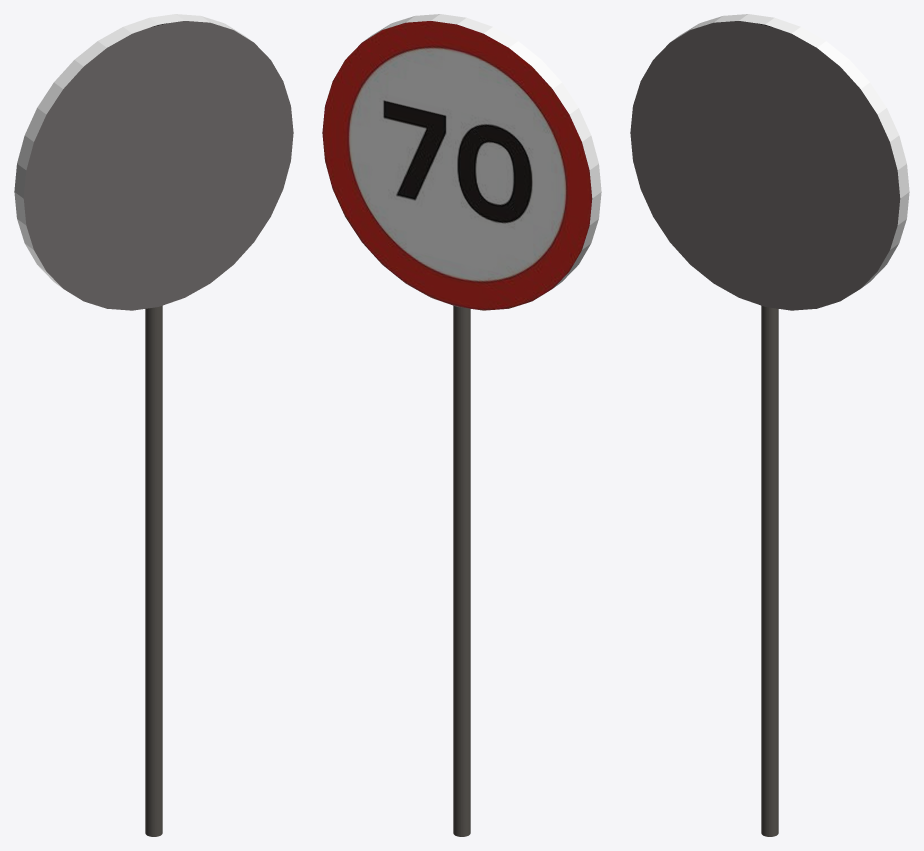
File: Sinal70.fbx
3 views of the same model, side by side, from view 1: azimuth 30°, elevation 25°; view 2: azimuth 150°, elevation 25°; view 3: azimuth 330°, elevation 25° (orthographic).
Visible parts, largest first — view 1: Cylinder.001, Cylinder; view 2: Cylinder.001, Cylinder; view 3: Cylinder.001, Cylinder.
Part boxes in pixels (x1,y1,x2,y2): Cylinder.001: (14,14,293,310); Cylinder: (145,305,162,836); Cylinder.001: (322,14,601,310); Cylinder: (453,305,470,836); Cylinder.001: (630,14,909,310); Cylinder: (761,305,778,836).
Bounding box in the file's own units: 200 × 575 × 12.
2 materials, 1 textured.
